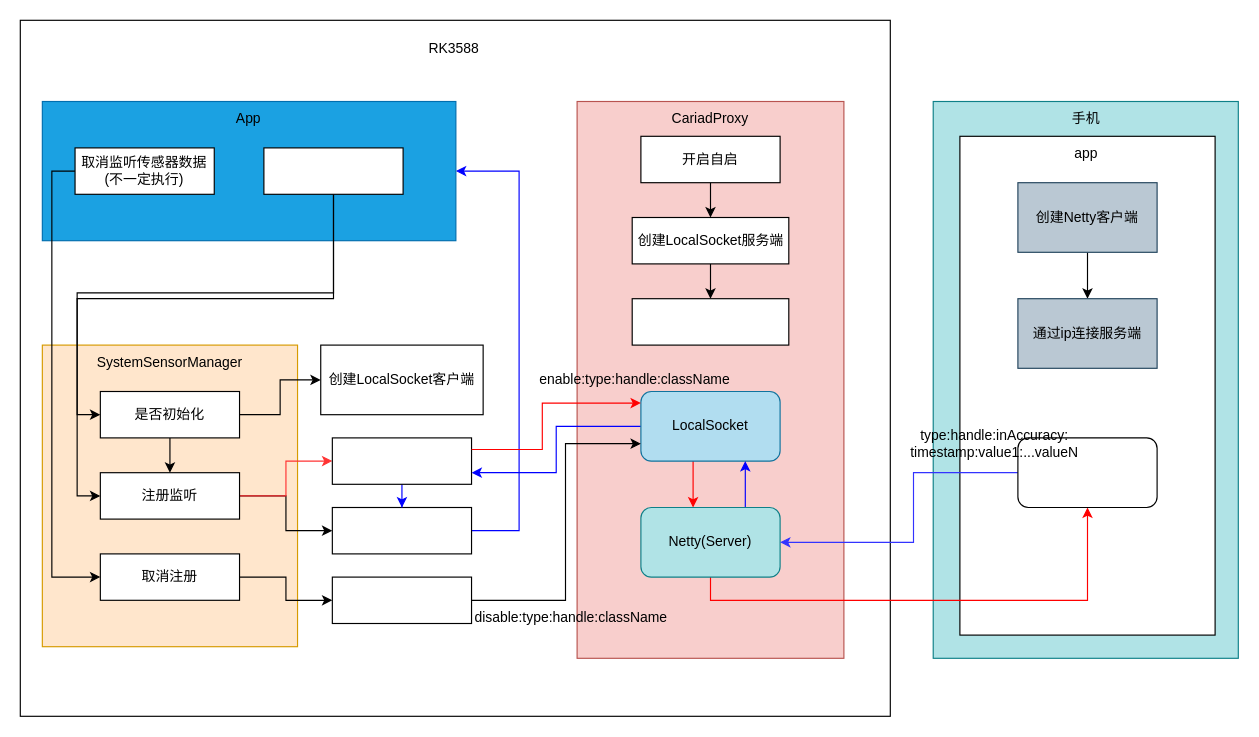
The diagram is 1259 pixels wide and 737 high, and some of its shapes have lost their labels. Each missing label, with the box of its shape:
Netty(Client): (1017, 437, 1157, 507)
创建Netty服务端: (631, 298, 789, 345)
发起监听传感器数据: (263, 147, 403, 194)
监听回调接口SensorEventListener: (331, 506, 472, 554)
通过LocalSocket请求关闭type的传感器: (331, 576, 472, 624)
通过LocalSocket请求开启type的传感器: (331, 437, 472, 484)
